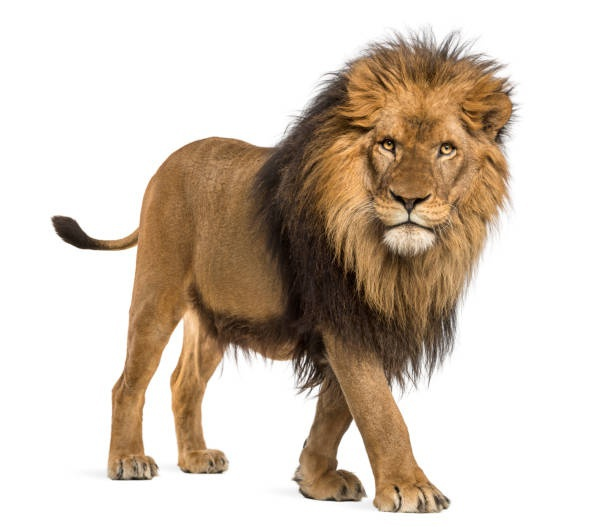lion: (23, 44, 587, 508)
